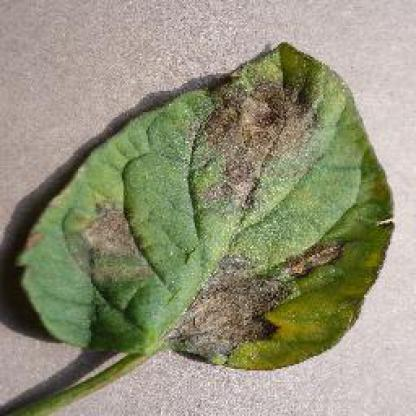bad leaf: (93, 62, 392, 353)
